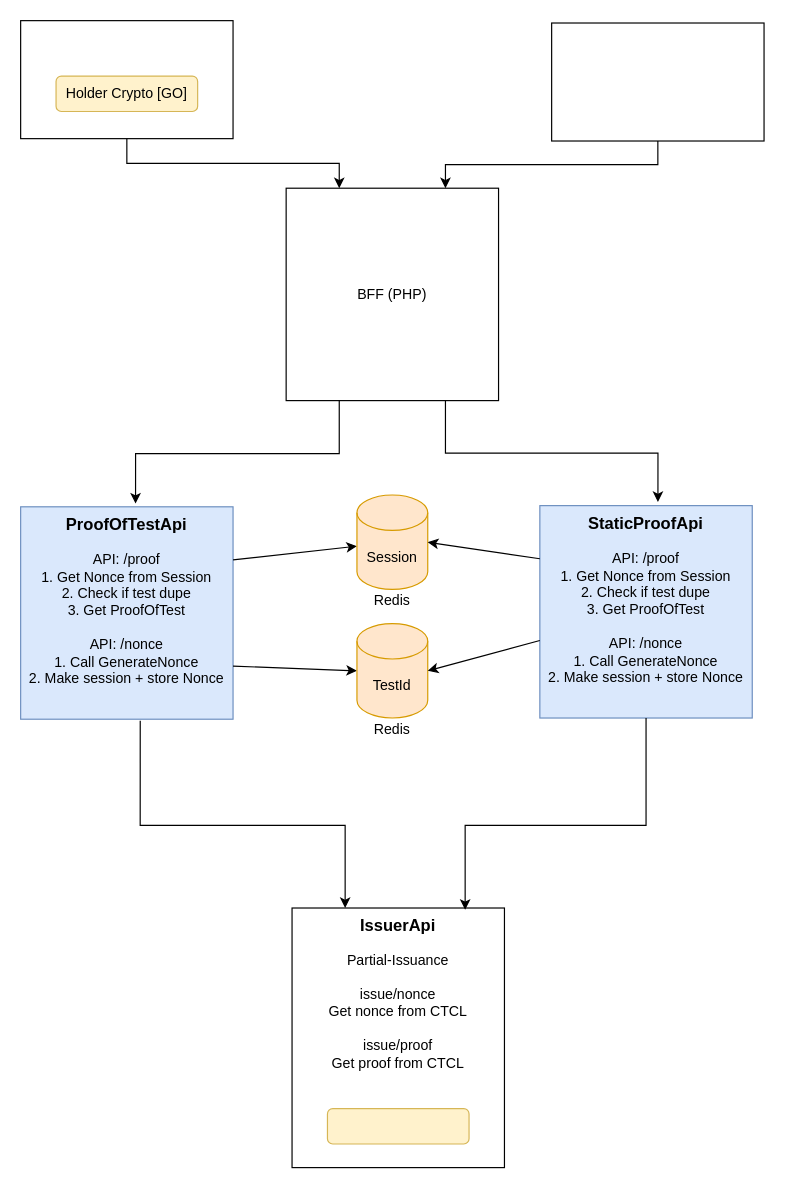
The diagram is 785 pixels wide and 1188 high, and some of its shapes have lost their labels. Here are the shapes that lost their labels. From the top down, the box of each, then its label:
(19, 19, 233, 139): HOLDER APP
(550, 22, 764, 141): Print Portal Spoor2
(326, 1107, 469, 1144): Issuer Crypto [GO]
